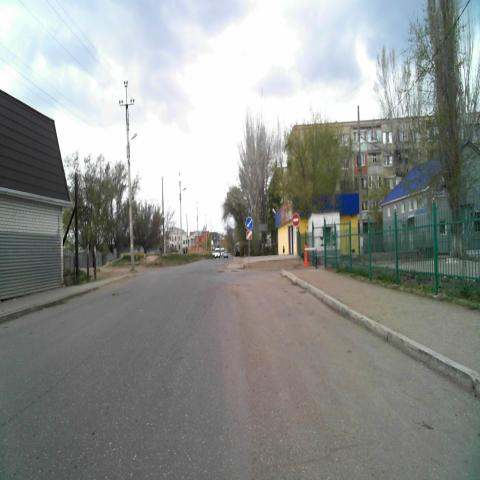4_2_2: (245, 216, 253, 231)
